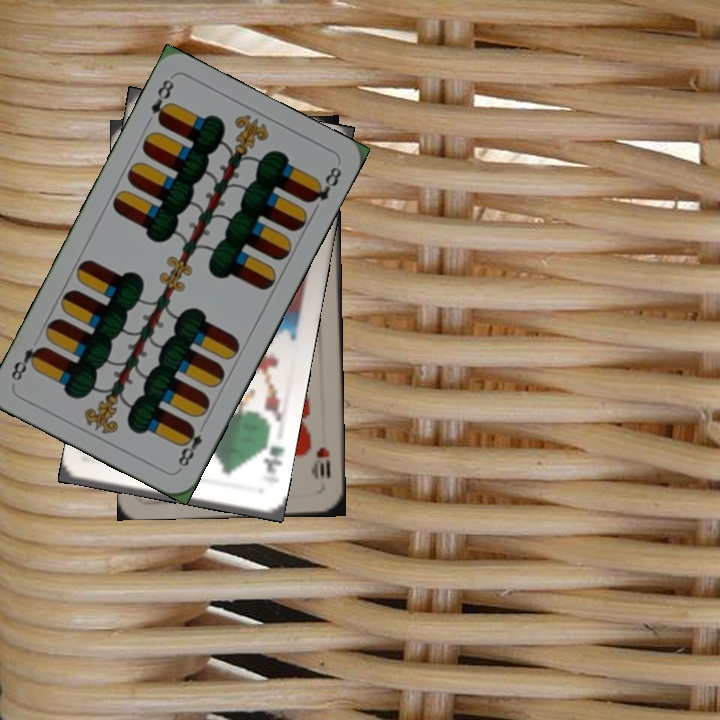E8: (146, 75, 177, 128), (174, 421, 205, 472)
GK: (259, 432, 286, 476)
H10: (309, 443, 333, 482)
